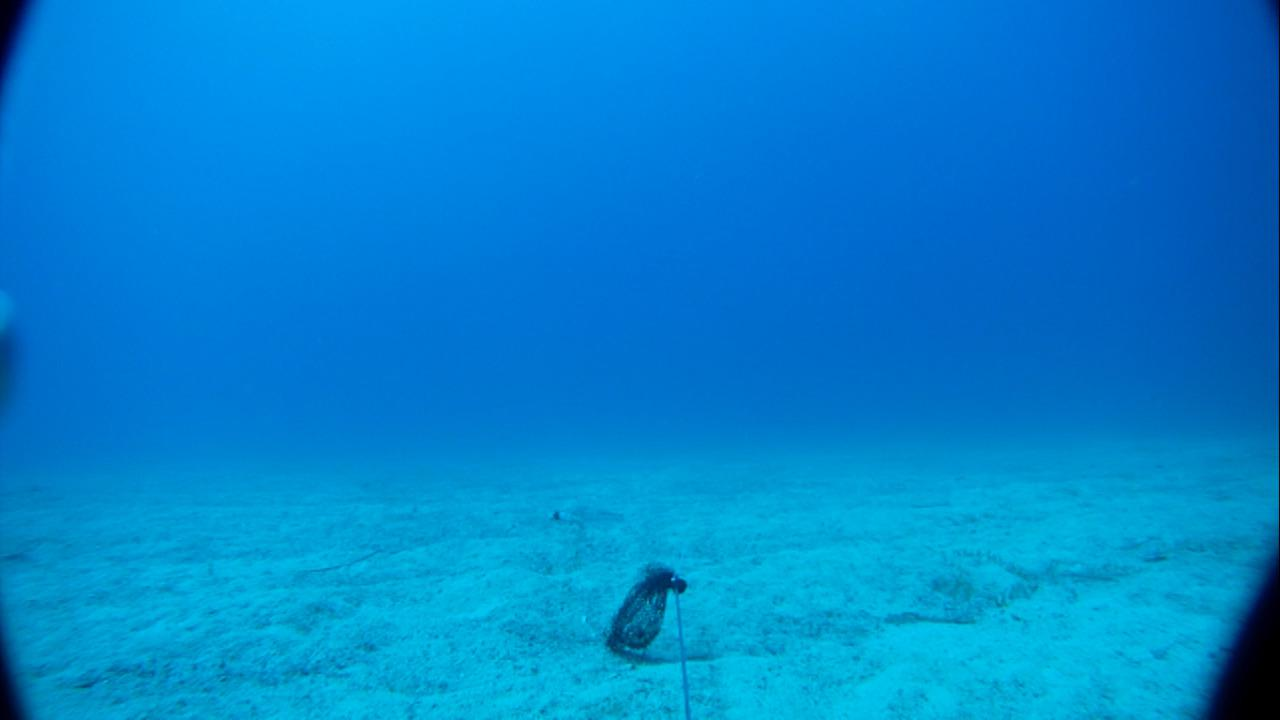dactylopterus: (543, 492, 631, 536)
